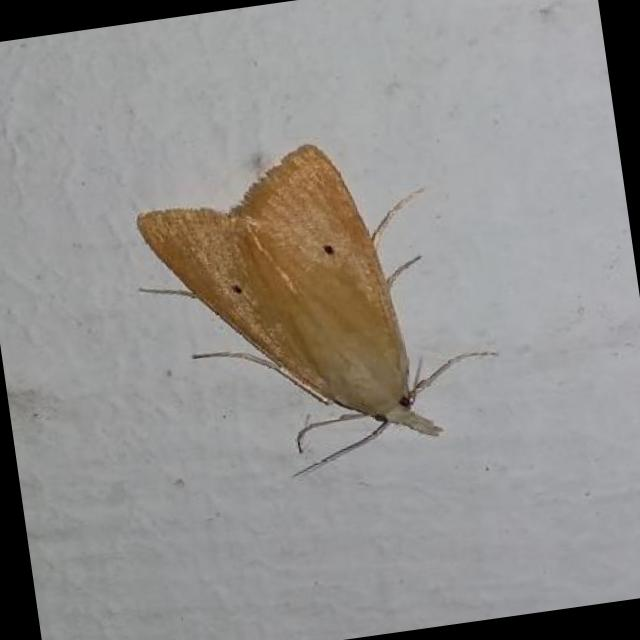stem-borer: (119, 116, 522, 498)
